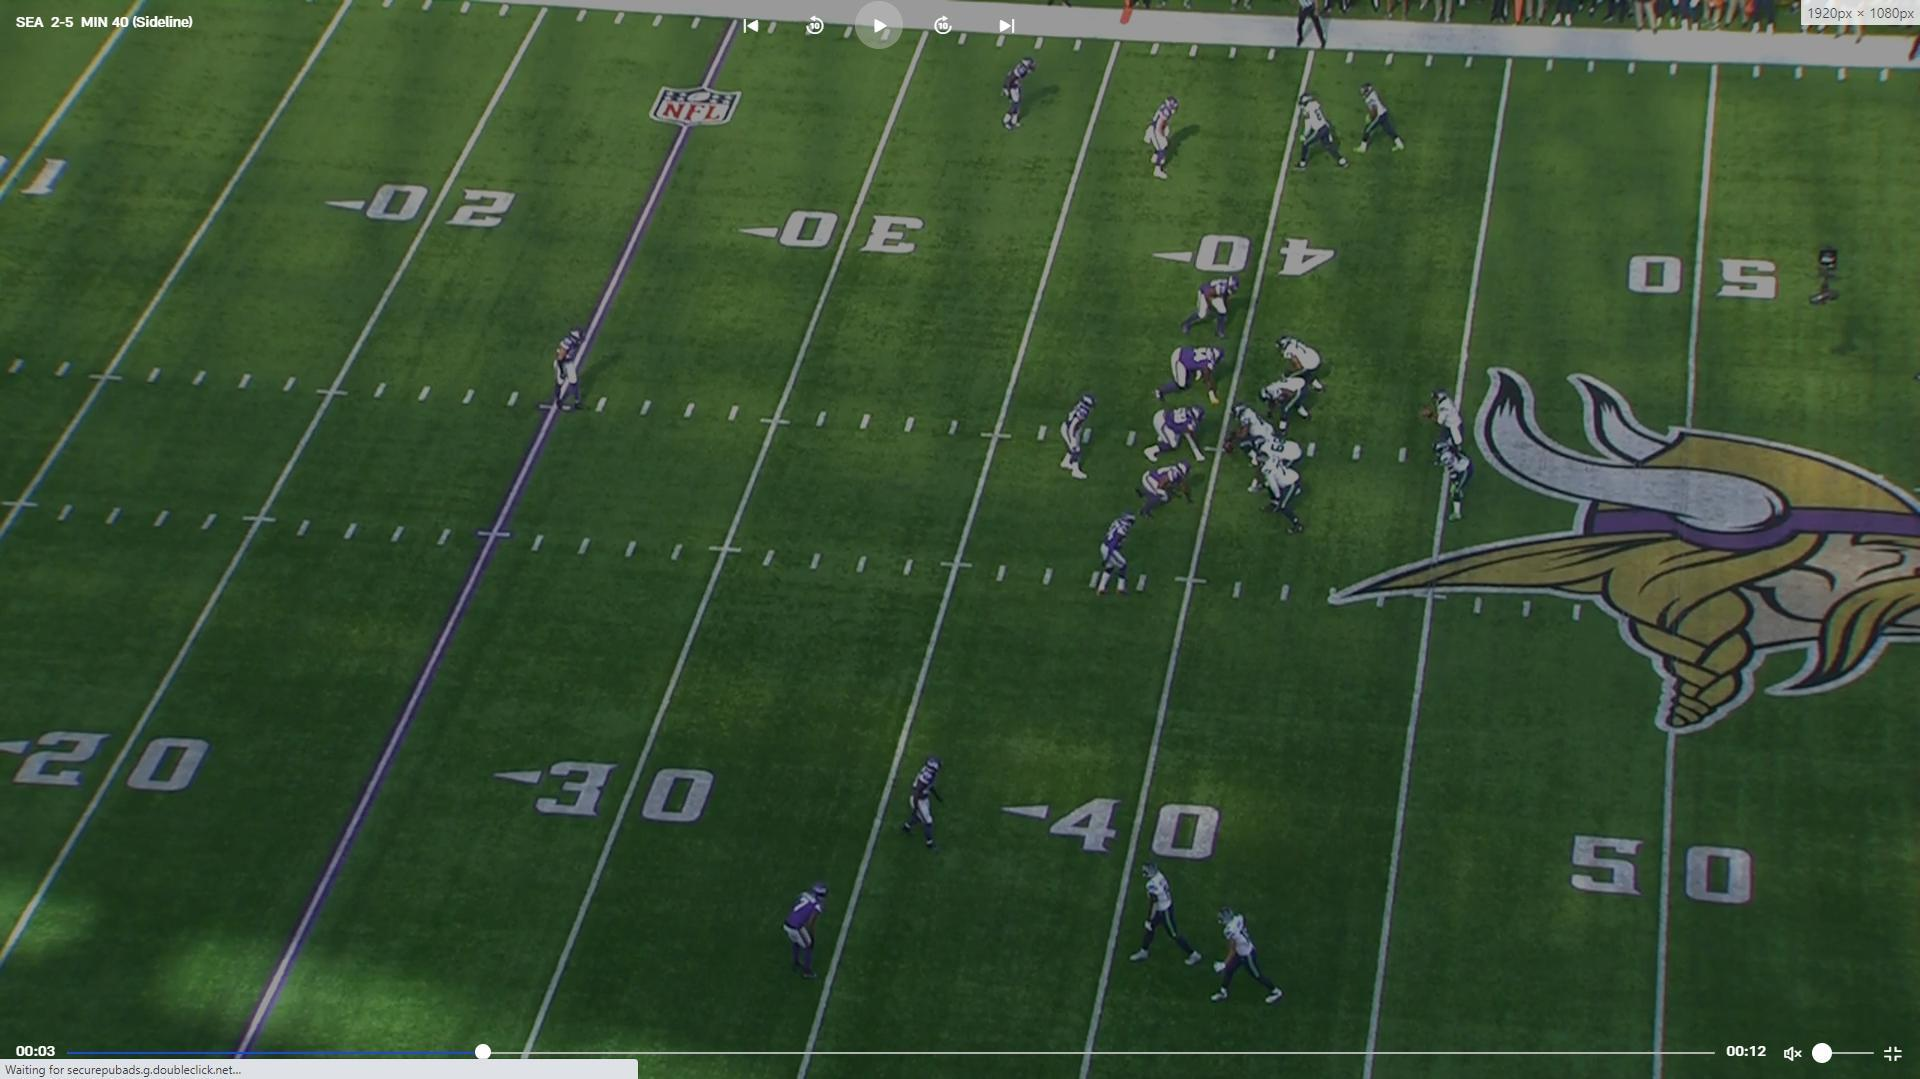player: (1209, 902, 1293, 1012), (1128, 858, 1209, 972), (786, 881, 838, 984), (1147, 345, 1226, 408), (1291, 90, 1350, 174), (902, 751, 950, 854), (1134, 456, 1205, 522), (1254, 450, 1308, 535), (1177, 272, 1243, 341), (1089, 509, 1139, 598), (1144, 402, 1214, 464), (1276, 331, 1330, 408), (1357, 81, 1409, 160), (1059, 388, 1101, 483), (549, 323, 592, 411), (1434, 437, 1479, 521), (1001, 51, 1045, 136), (1428, 385, 1473, 465), (1145, 92, 1182, 183), (1258, 377, 1314, 437), (1231, 399, 1281, 461), (1252, 432, 1309, 472)
ref: (1289, 0, 1332, 50)
